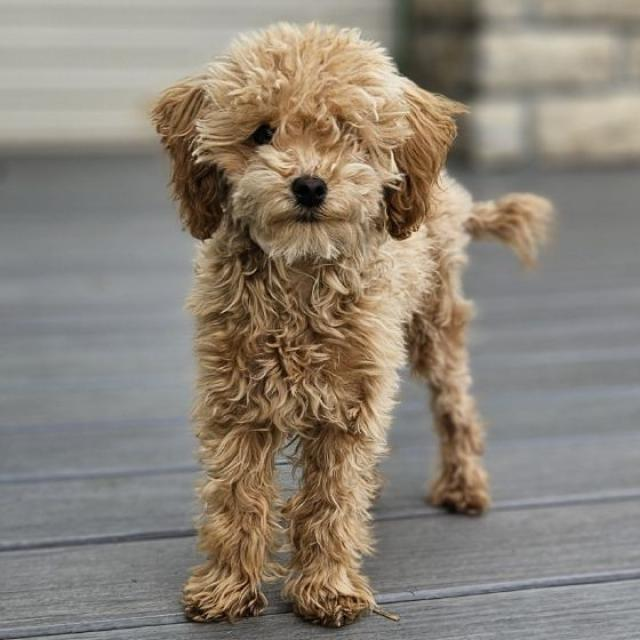Poodle_dog: (140, 0, 466, 272)
